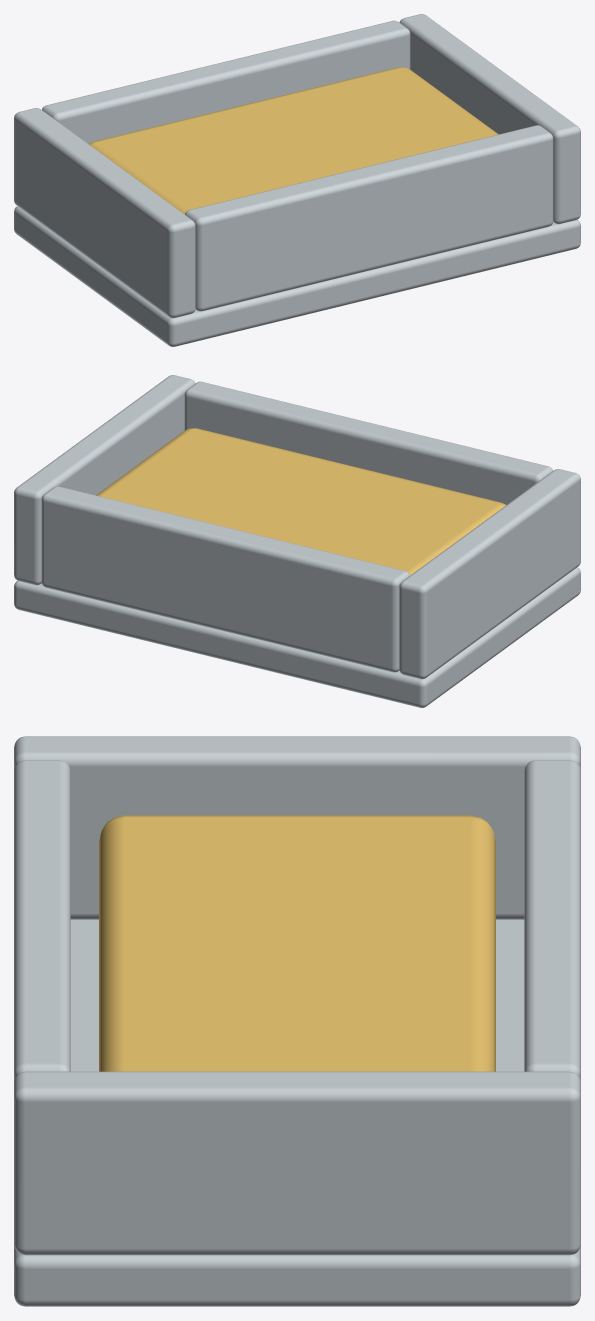
File: beekeeping-and-honey-farm-wax-block-mold-6c723167__30742.glb
3 views of the same model, one above another, from view 1: azimuth 30°, elevation 25°; view 2: azimuth 150°, elevation 25°; view 3: azimuth 270°, elevation 25° (orthographic). The views are drawn at different scales.
Parts seen in each view (by area): view 1: wax-block-mold; view 2: wax-block-mold; view 3: wax-block-mold.
Part boxes in pixels (bbox=[...]): wax-block-mold: bbox=[14, 14, 580, 346]; wax-block-mold: bbox=[14, 375, 580, 707]; wax-block-mold: bbox=[14, 736, 580, 1306].
Size of the model in its own units: 0.3 by 0.085 by 0.2.
